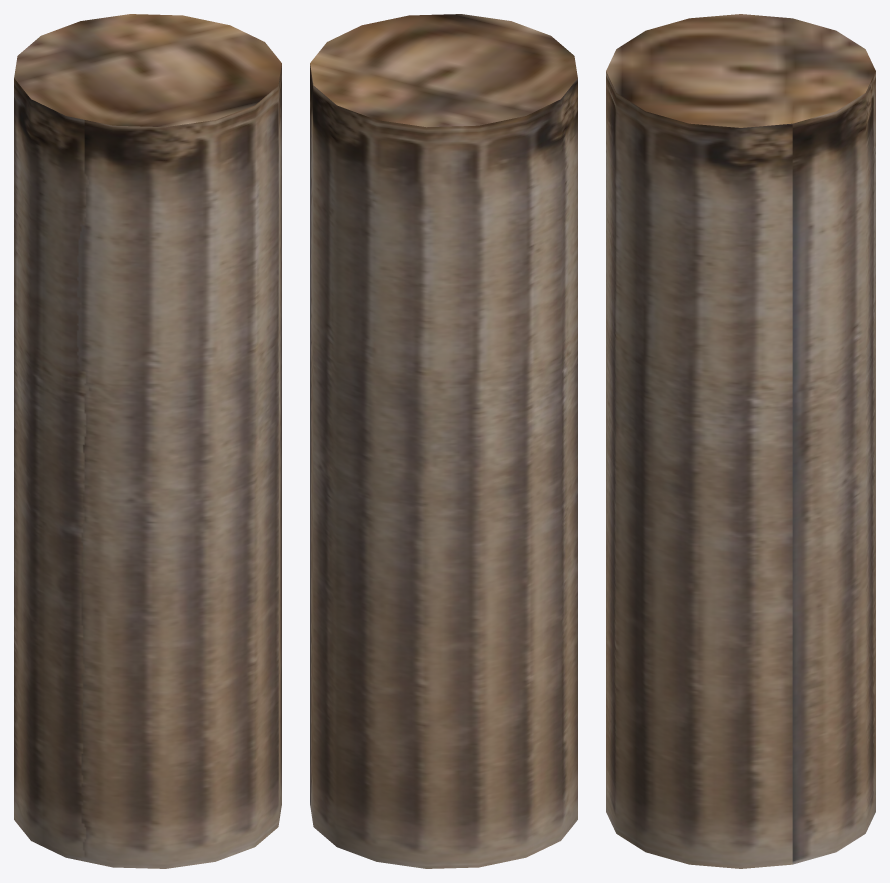
Rendered from columnTextured.fbx.
3 renders of one model, left to right at view 1: azimuth 30°, elevation 25°; view 2: azimuth 150°, elevation 25°; view 3: azimuth 270°, elevation 25°, orthographic.
Visible parts, largest first — view 1: pCylinder1; view 2: pCylinder1; view 3: pCylinder1.
Part boxes in pixels (<box>): pCylinder1: <box>14,14,281,868</box>; pCylinder1: <box>310,14,577,868</box>; pCylinder1: <box>606,14,875,868</box>.
Bounding box in the file's own units: 6.63 × 20.1 × 6.63.
